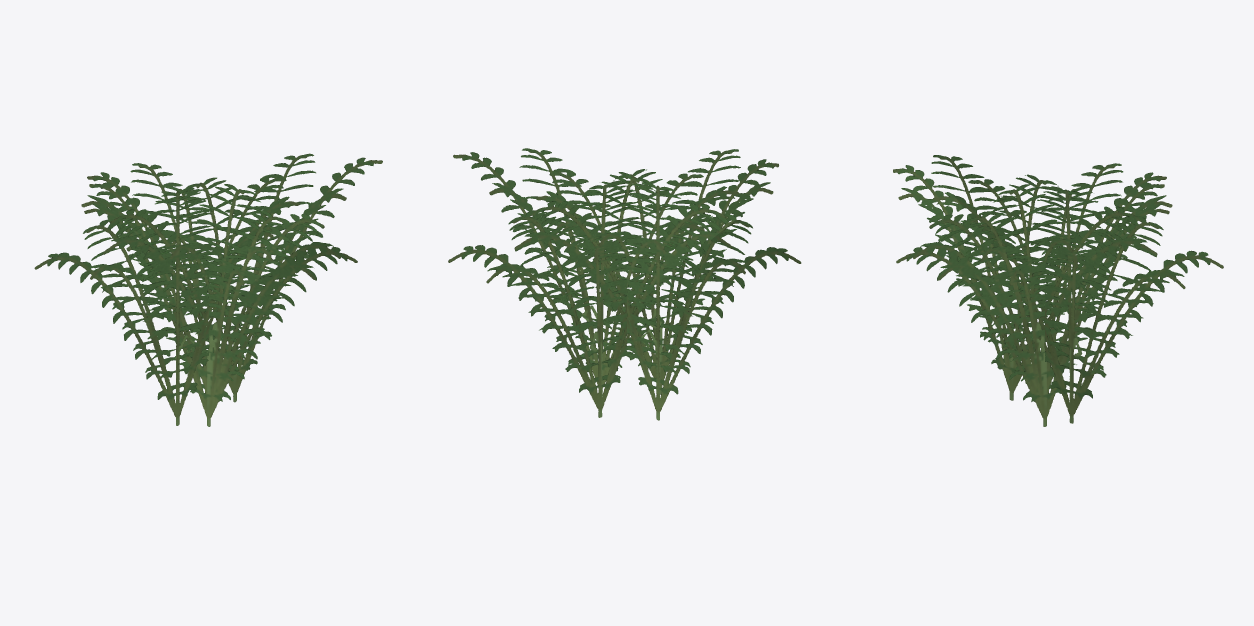
The model's file is v6_fern_cards.glb.
The picture shows the model from 3 angles, left to right: view 1: azimuth 30°, elevation 25°; view 2: azimuth 150°, elevation 25°; view 3: azimuth 270°, elevation 25°; orthographic projection.
Visible parts, largest first — view 1: v6_fern_cutout_surface; view 2: v6_fern_cutout_surface; view 3: v6_fern_cutout_surface.
Boxes of the visible parts, bbox=[...] form: v6_fern_cutout_surface: bbox=[34, 153, 382, 426]; v6_fern_cutout_surface: bbox=[448, 148, 801, 420]; v6_fern_cutout_surface: bbox=[893, 155, 1223, 426].
Size of the model in its own units: 1.09 by 1.1 by 0.9402.
1 material, 1 textured.
